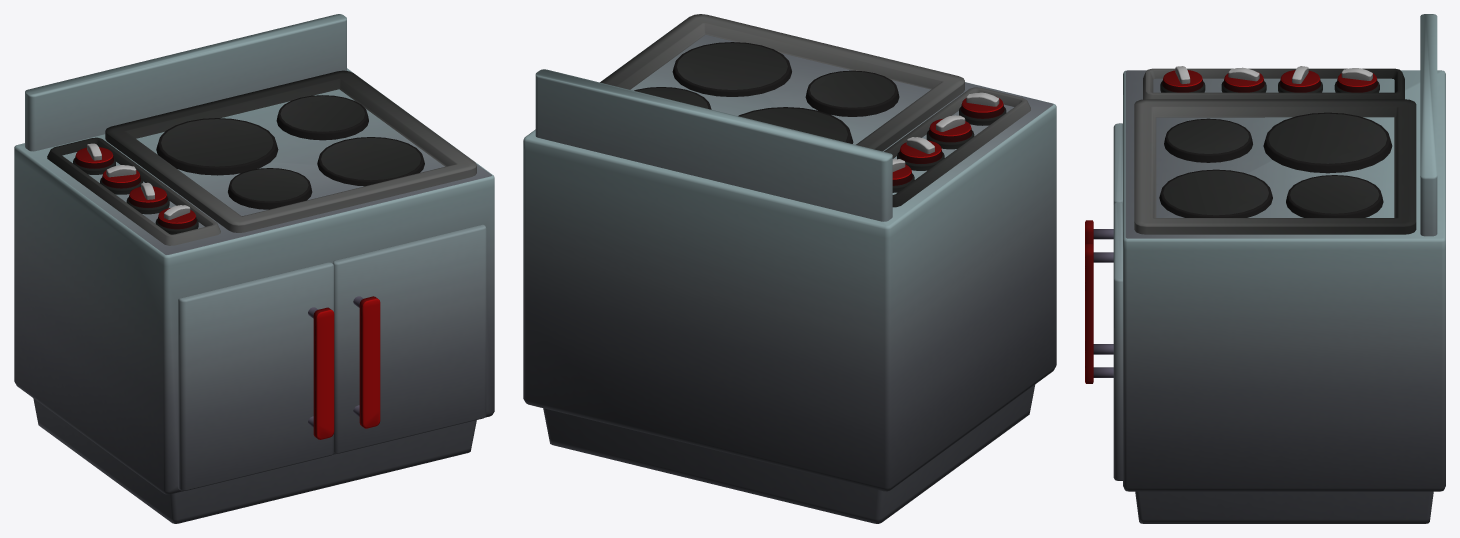
File: environment_cooker.fbx
The picture shows the model from 3 angles, left to right: view 1: azimuth 30°, elevation 25°; view 2: azimuth 150°, elevation 25°; view 3: azimuth 270°, elevation 25°; orthographic projection. The views are drawn at different scales.
Parts seen in each view (by area): view 1: environment_cooker, environment_cooker right door, environment_cooker left door; view 2: environment_cooker; view 3: environment_cooker, environment_cooker left door, environment_cooker right door.
Boxes of the visible parts, bbox=[...] form: environment_cooker: bbox=[14, 14, 494, 523]; environment_cooker right door: bbox=[178, 262, 334, 490]; environment_cooker left door: bbox=[333, 224, 486, 453]; environment_cooker: bbox=[523, 14, 1056, 523]; environment_cooker: bbox=[1123, 14, 1445, 523]; environment_cooker left door: bbox=[1085, 202, 1122, 480]; environment_cooker right door: bbox=[1085, 123, 1122, 354].
Bounding box in the file's own units: 80 × 76.87 × 71.53.
